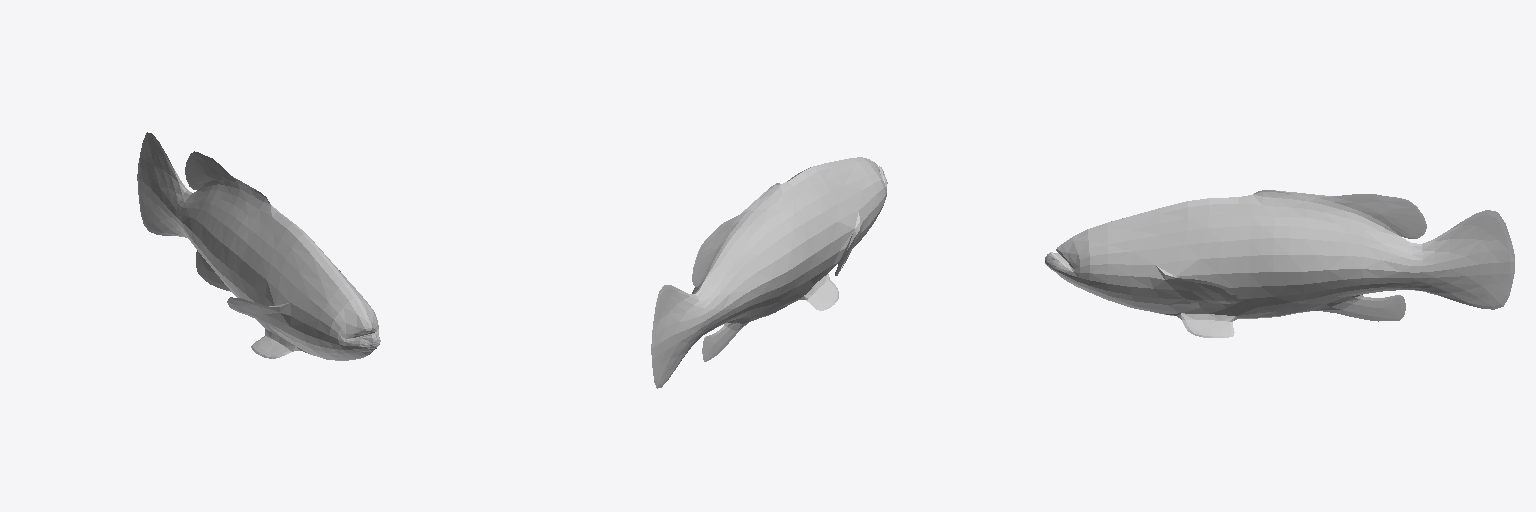
Rendered from GiantGrouper.obj.
The picture shows the model from 3 angles: view 1: azimuth 30°, elevation 25°; view 2: azimuth 150°, elevation 25°; view 3: azimuth 270°, elevation 25°; orthographic projection.
Visible parts, largest first — view 1: Plane; view 2: Plane; view 3: Plane.
Part boxes in pixels (x1,y1,x2,y2): Plane: (137, 132, 380, 360); Plane: (651, 157, 887, 388); Plane: (1045, 190, 1514, 337).
Size of the model in its own units: 1.8 by 2.16 by 6.96.